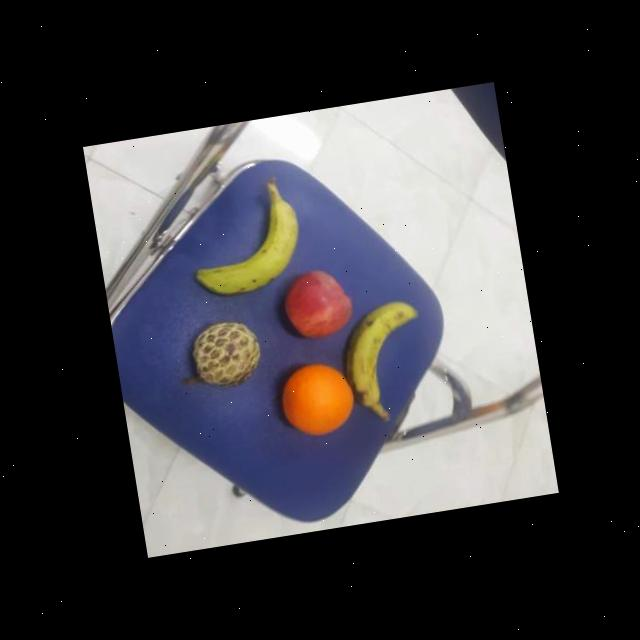Sakya fruit: (186, 315, 267, 394)
banana: (181, 189, 311, 304), (334, 293, 436, 412), (276, 262, 360, 346)
orange: (274, 358, 359, 442)
